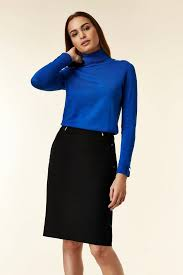F_tailored skirt: (35, 123, 121, 251)
